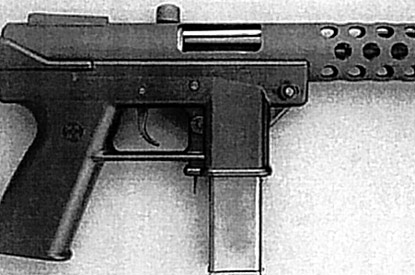rifle: (4, 6, 414, 274)
